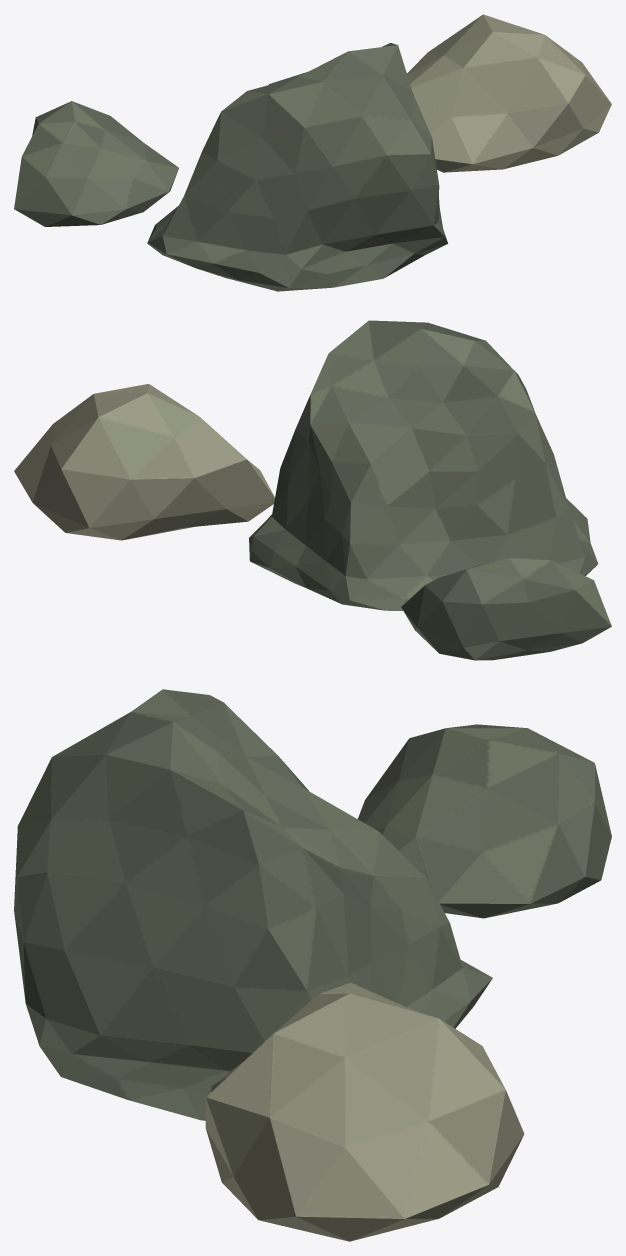
The model's file is SM_Rock_Cluster.fbx.
3 views of the same model, one above another, from view 1: azimuth 30°, elevation 25°; view 2: azimuth 150°, elevation 25°; view 3: azimuth 270°, elevation 25° (orthographic). The views are drawn at different scales.
Parts seen in each view (by area): view 1: SM_Rock_Cluster_LOD0; view 2: SM_Rock_Cluster_LOD0; view 3: SM_Rock_Cluster_LOD0.
Part boxes in pixels (x1,y1,x2,y2): SM_Rock_Cluster_LOD0: [14, 14, 611, 291]; SM_Rock_Cluster_LOD0: [14, 320, 611, 660]; SM_Rock_Cluster_LOD0: [14, 689, 611, 1241].
Size of what is drawn, in the model's own units: 1.98 by 0.7139 by 1.11.
